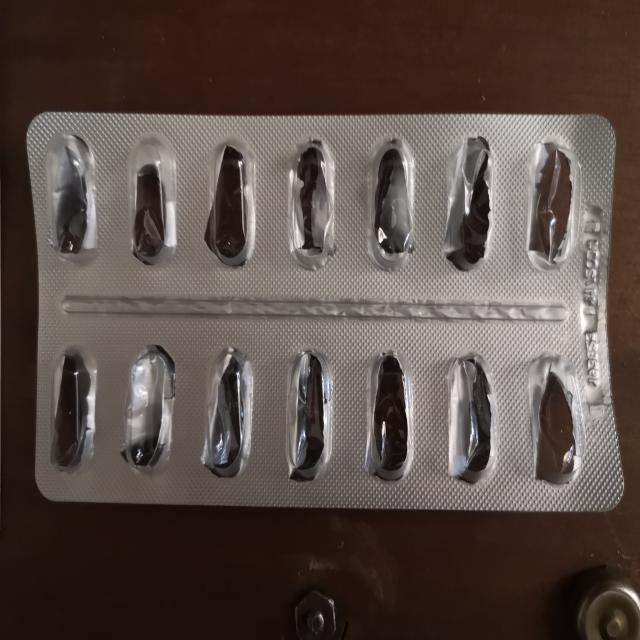Empty: (519, 343, 591, 495), (35, 125, 105, 273), (434, 346, 504, 494), (114, 330, 180, 480), (356, 344, 422, 493), (117, 126, 183, 274), (197, 128, 263, 276), (437, 122, 500, 276), (278, 338, 341, 492), (362, 124, 425, 275), (198, 337, 262, 485), (520, 128, 581, 278), (41, 334, 102, 480), (282, 126, 342, 273)
